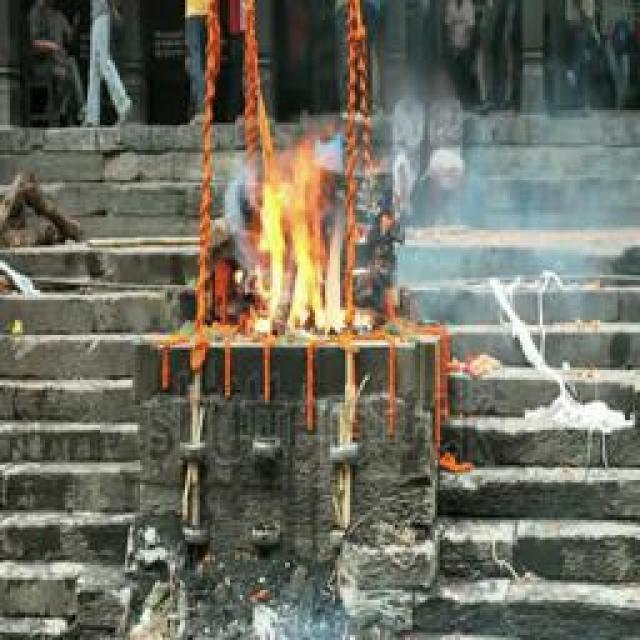Fire: (256, 134, 361, 341)
